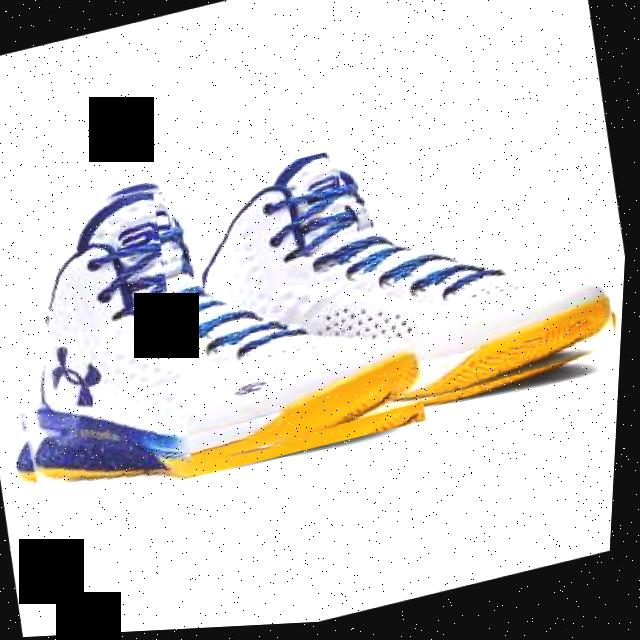shoe: (145, 94, 635, 470), (0, 125, 443, 521)
